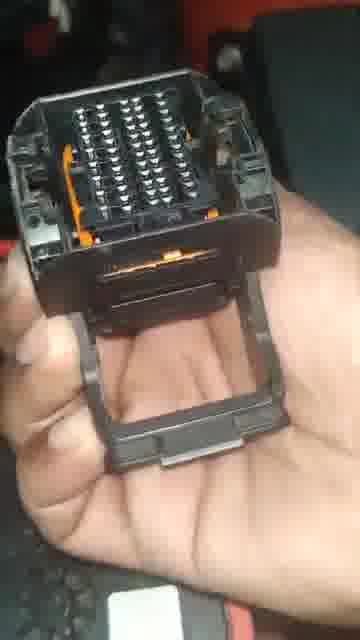connector: (4, 66, 284, 336)
